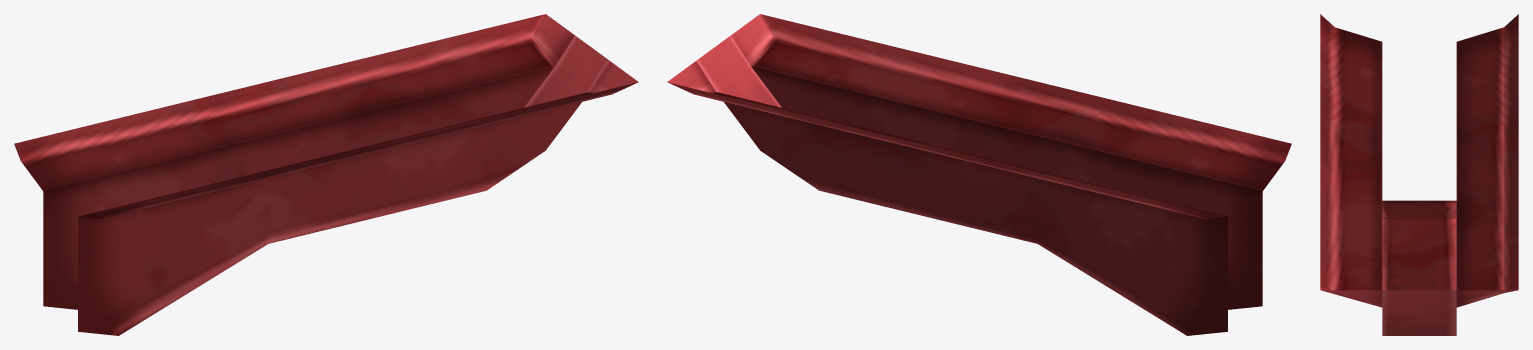
File: em_wall_atrium_strut.fbx
3 views of the same model, side by side, from view 1: azimuth 30°, elevation 25°; view 2: azimuth 150°, elevation 25°; view 3: azimuth 270°, elevation 25° (orthographic). The views are drawn at different scales.
Parts seen in each view (by area): view 1: em_wall_atrium_strut; view 2: em_wall_atrium_strut; view 3: em_wall_atrium_strut.
Part boxes in pixels (box(x1,y1,x2,y2)): em_wall_atrium_strut: box(14, 14, 638, 335); em_wall_atrium_strut: box(667, 14, 1291, 335); em_wall_atrium_strut: box(1320, 14, 1518, 335).
Bounding box in the file's own units: 3.94 × 1.1 × 1.19.
